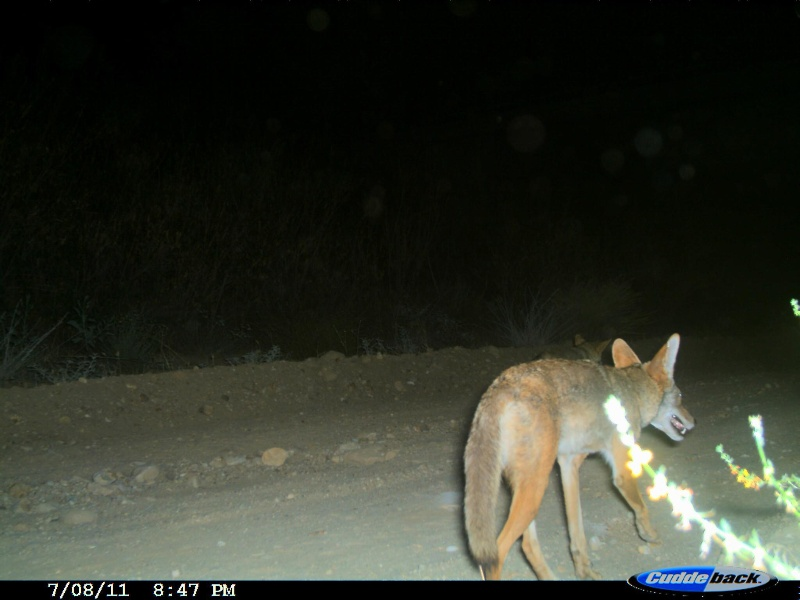coyote: (458, 328, 694, 576)
